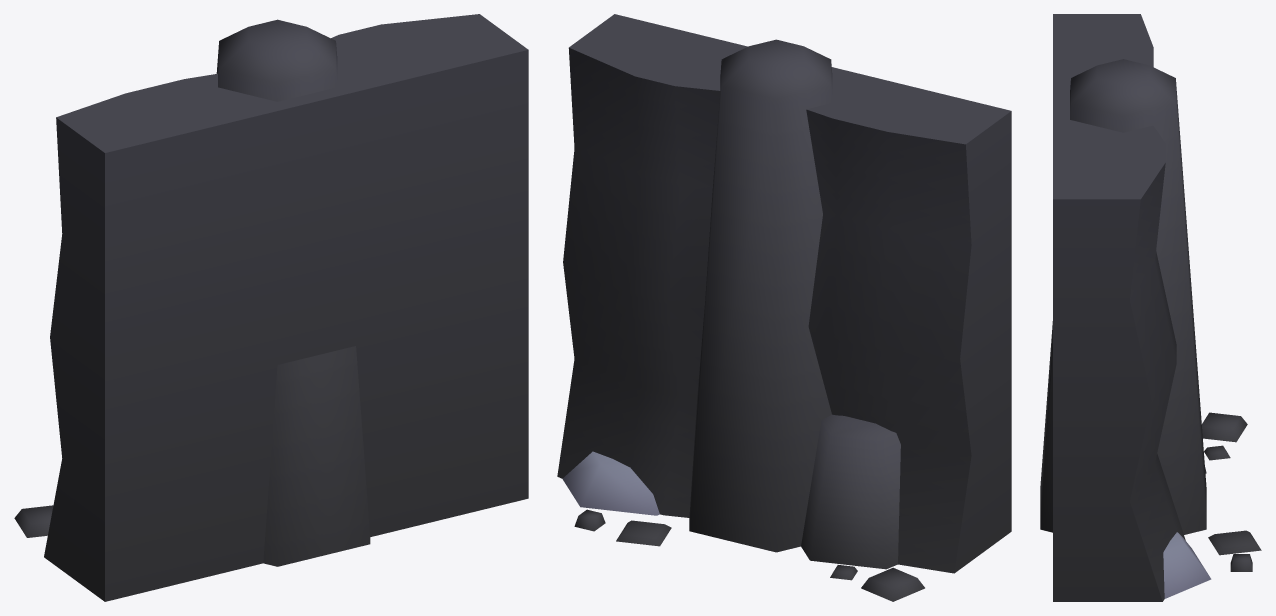
The model's file is template-wall-detail-a.fbx.
3 views of the same model, side by side, from view 1: azimuth 30°, elevation 25°; view 2: azimuth 150°, elevation 25°; view 3: azimuth 270°, elevation 25° (orthographic). The views are drawn at different scales.
Parts seen in each view (by area): view 1: template-wall-detail-a; view 2: template-wall-detail-a; view 3: template-wall-detail-a.
Part boxes in pixels (x1,y1,x2,y2): template-wall-detail-a: (14,14,528,601); template-wall-detail-a: (557,14,1011,601); template-wall-detail-a: (1040,14,1261,601).
Size of the model in its own units: 400 by 440 by 202.
